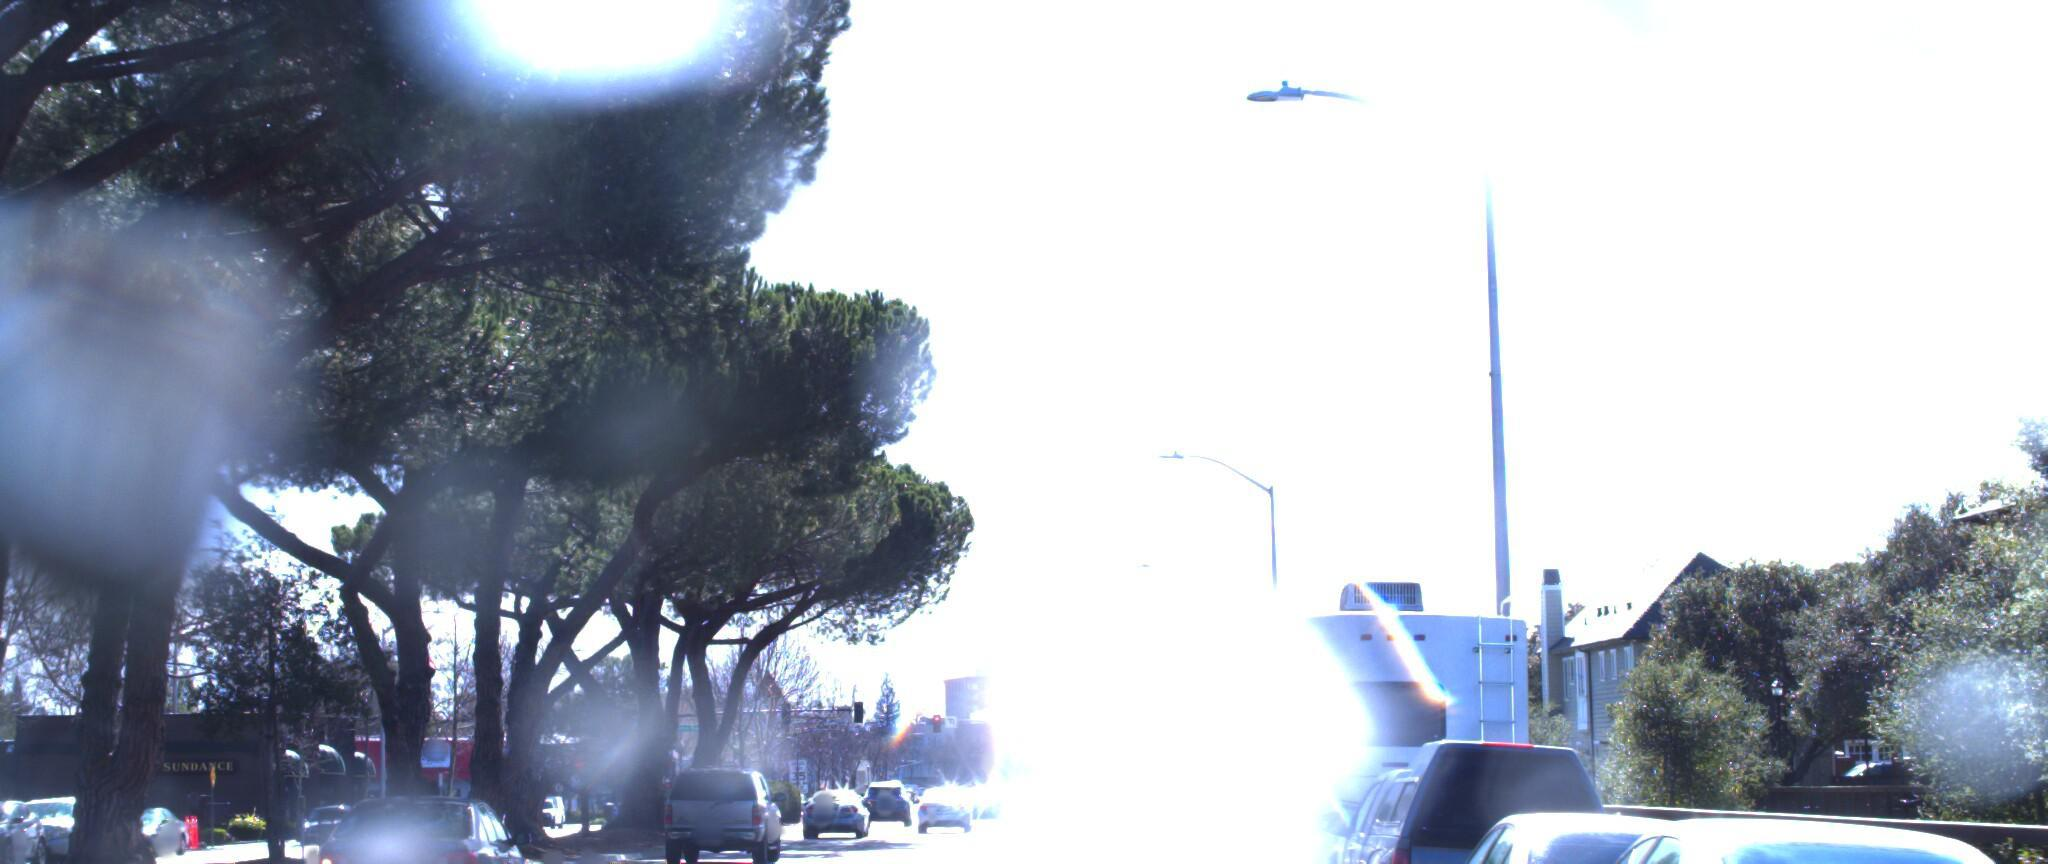car: (1307, 730, 1624, 864), (1497, 804, 2048, 864), (270, 779, 563, 864), (1409, 804, 1804, 864), (654, 767, 788, 857), (1970, 717, 2048, 864), (1015, 782, 1096, 846)
other_vehicle: (1182, 566, 1567, 864), (1130, 693, 1284, 857)
